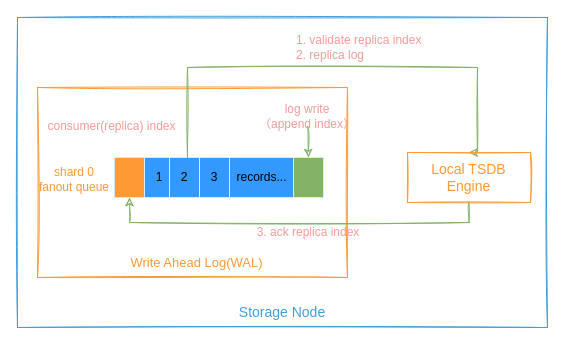
Image size: 565x345. Some labels were removed from this diagram. Each missing label, with the centre of its shape:
head: pixel 308 177
tail: pixel 129 177
